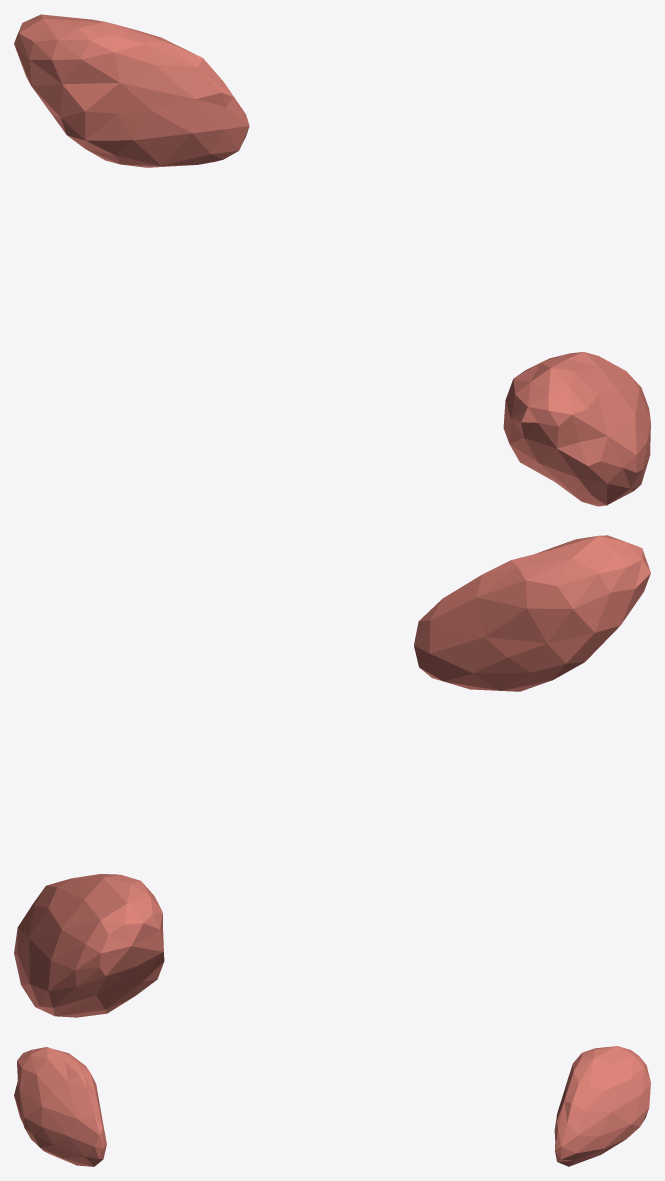
3 views of the same model, one above another, from view 1: azimuth 30°, elevation 25°; view 2: azimuth 150°, elevation 25°; view 3: azimuth 270°, elevation 25° (orthographic). The views are drawn at different scales.
Parts seen in each view (by area): view 1: 210.obj; view 2: 210.obj; view 3: 210.obj.
Part boxes in pixels (<box>): 210.obj: <box>14,14,650,506</box>; 210.obj: <box>14,535,650,1017</box>; 210.obj: <box>14,1046,650,1166</box>.
Bounding box in the file's own units: 428 × 358 × 2257.
